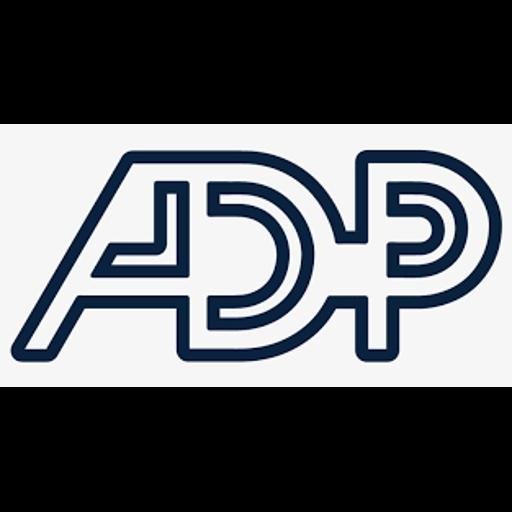ADP: (0, 124, 512, 387)
